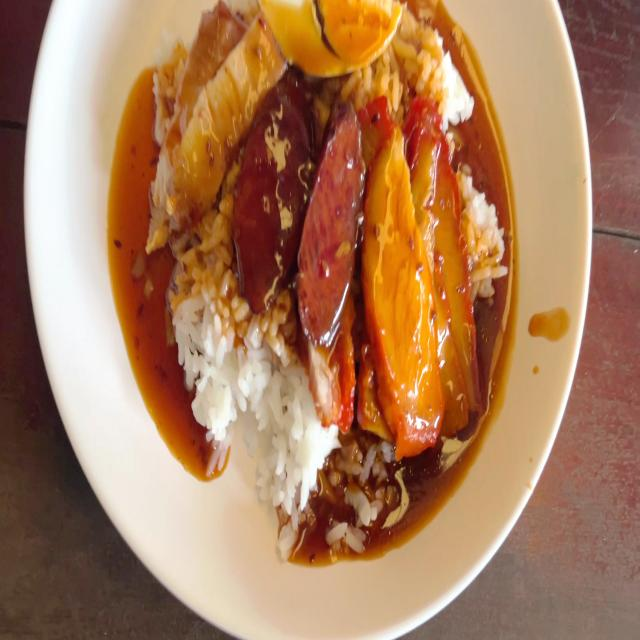boiled_egg: (257, 0, 403, 74)
chainese_sausage: (240, 88, 354, 332), (236, 84, 318, 299), (303, 104, 363, 323)
crispy_pork: (146, 0, 276, 231)
red_pork: (365, 106, 477, 437), (363, 130, 434, 430), (414, 108, 472, 436)
red_pork_and_crispy_pork: (151, 0, 497, 532)
rice: (247, 331, 315, 517), (185, 264, 242, 436)
